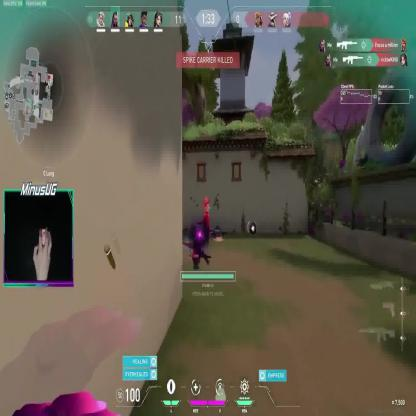enemy: (201, 196, 212, 241)
enemy_head: (204, 197, 209, 206)
